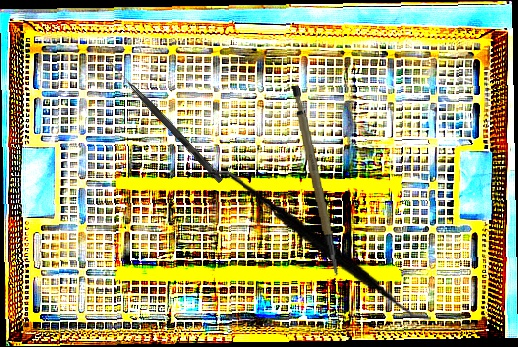Hook Surgical: (106, 60, 225, 184)
Scalpel Handle: (288, 83, 340, 279)
Spatula Surgical: (198, 170, 441, 322)
